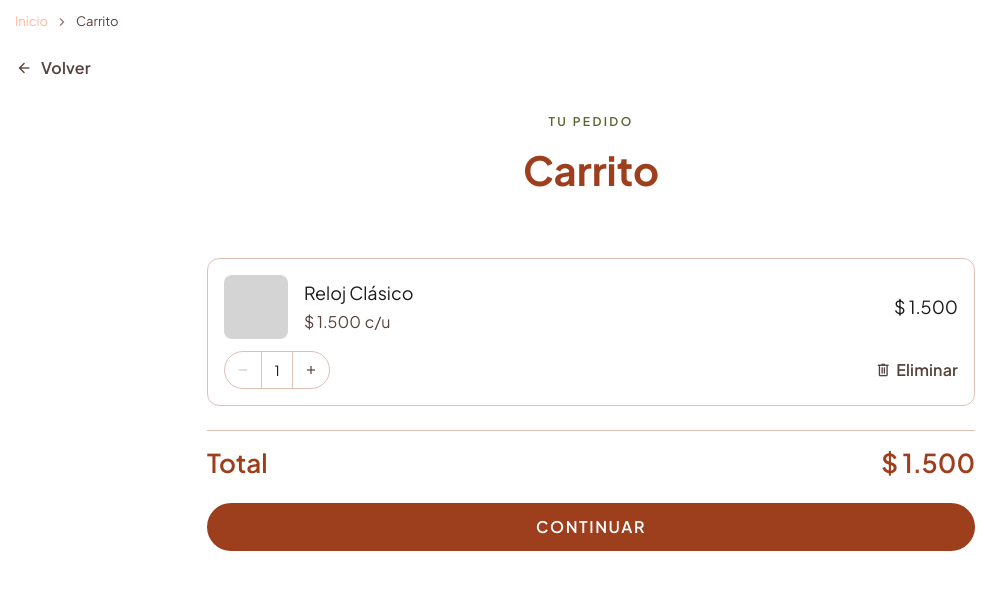
Test: Carrito › quita una línea válida mediante el botón de eliminar
Expected: the text "Reloj Clásico" is shown, left=304, top=281, right=414, bottom=304
Click the button with aria-label "eliminar del carrito".
click(916, 370)  # box left=874, top=361, right=958, bottom=379
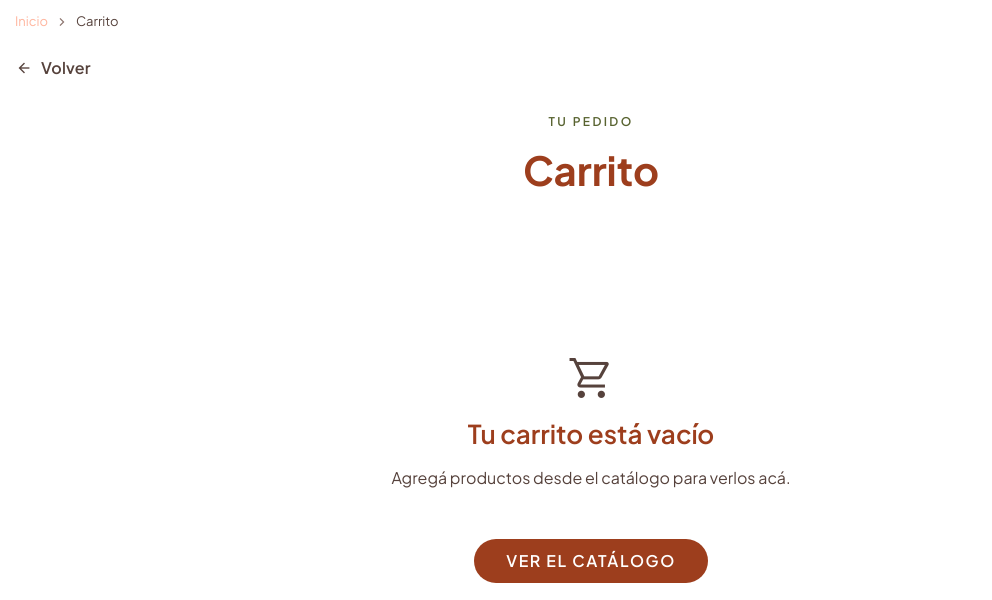
Now the heading "Tu carrito está vacío" is shown, box left=468, top=418, right=714, bottom=450
